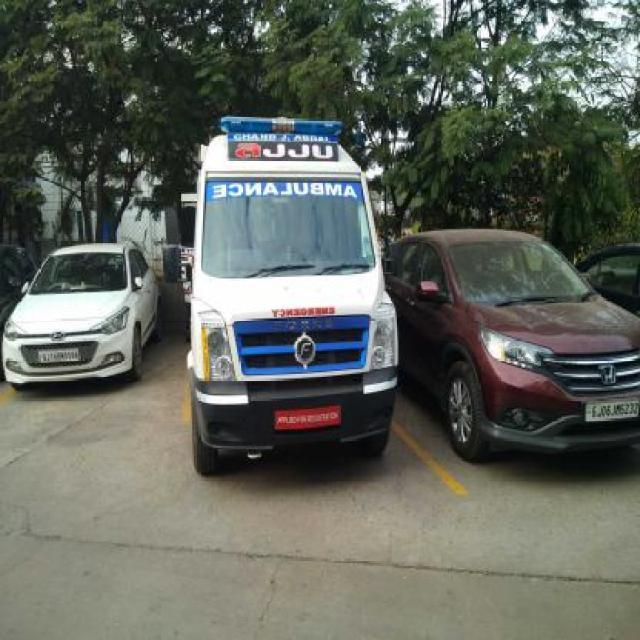Ambulance: (0, 110, 638, 481), (0, 306, 638, 638), (180, 114, 402, 478), (378, 224, 638, 466), (0, 238, 163, 394), (0, 237, 38, 386)
